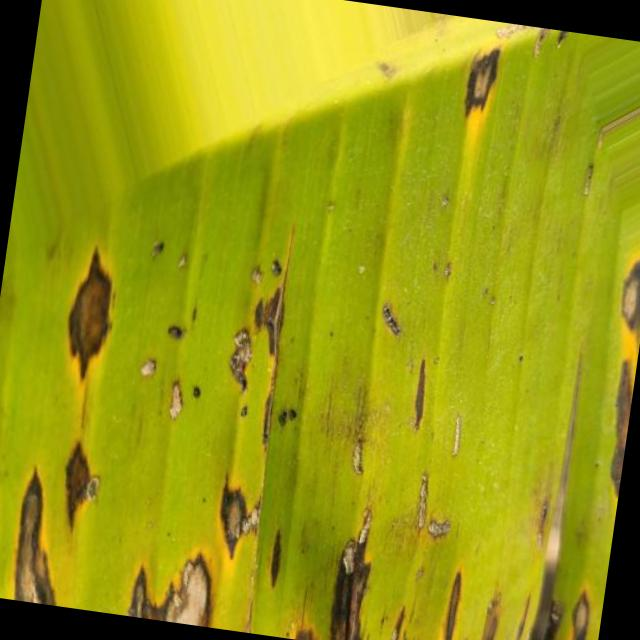Banana_Yellow_Sigatoka: (0, 231, 325, 636), (311, 460, 618, 640), (555, 204, 640, 493)
